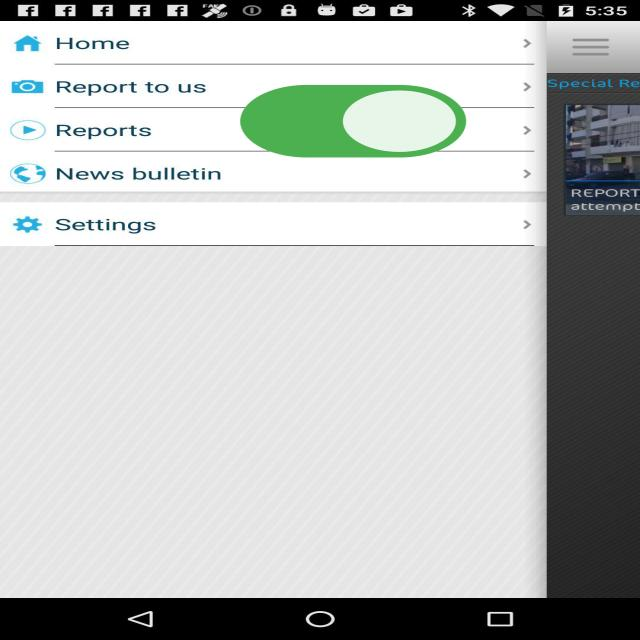social proof: (230, 57, 476, 191)
